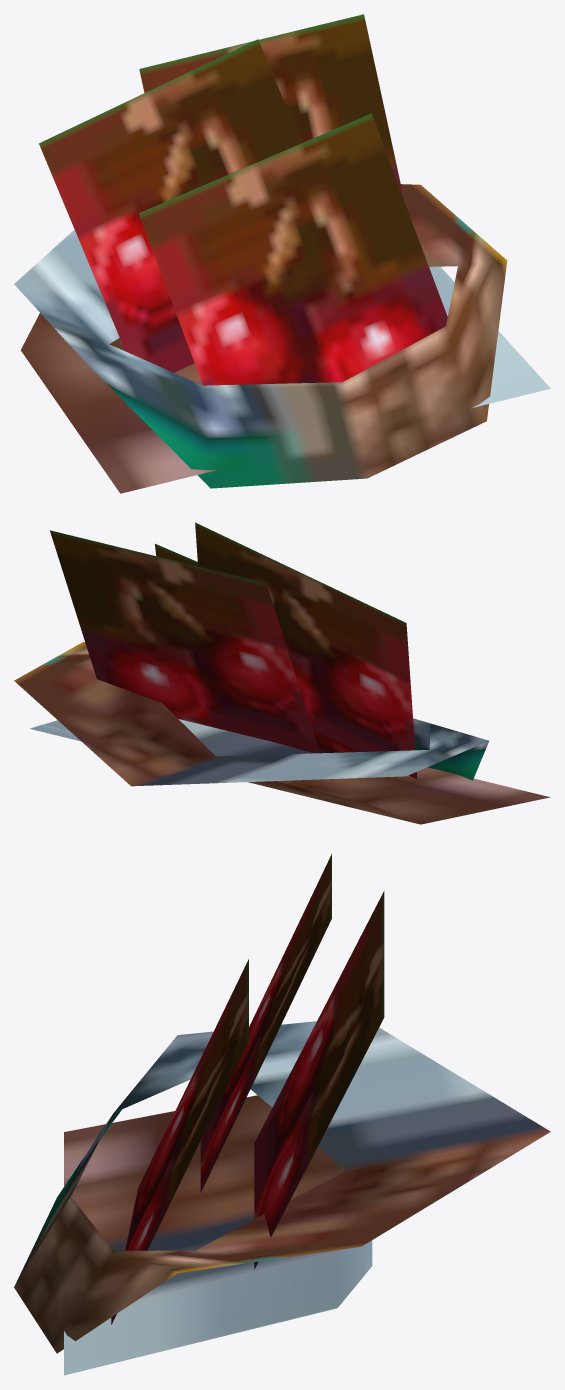
File: fg_cherry_pile_out.dae
3 views of the same model, one above another, from view 1: azimuth 30°, elevation 25°; view 2: azimuth 150°, elevation 25°; view 3: azimuth 270°, elevation 25° (orthographic). The views are drawn at different scales.
Parts seen in each view (by area): view 1: fg_cherry_pile_out; view 2: fg_cherry_pile_out; view 3: fg_cherry_pile_out.
Boxes of the visible parts, <box> form: fg_cherry_pile_out: <box>14,14,550,493</box>; fg_cherry_pile_out: <box>14,522,550,824</box>; fg_cherry_pile_out: <box>14,854,550,1375</box>.
Size of the model in its own units: 24.45 by 18.1 by 22.51.
1 material, 1 textured.
